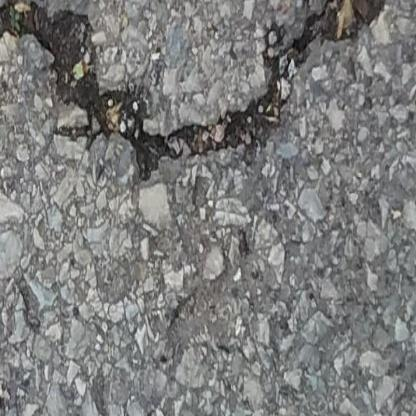Cracks: (0, 0, 402, 179)
